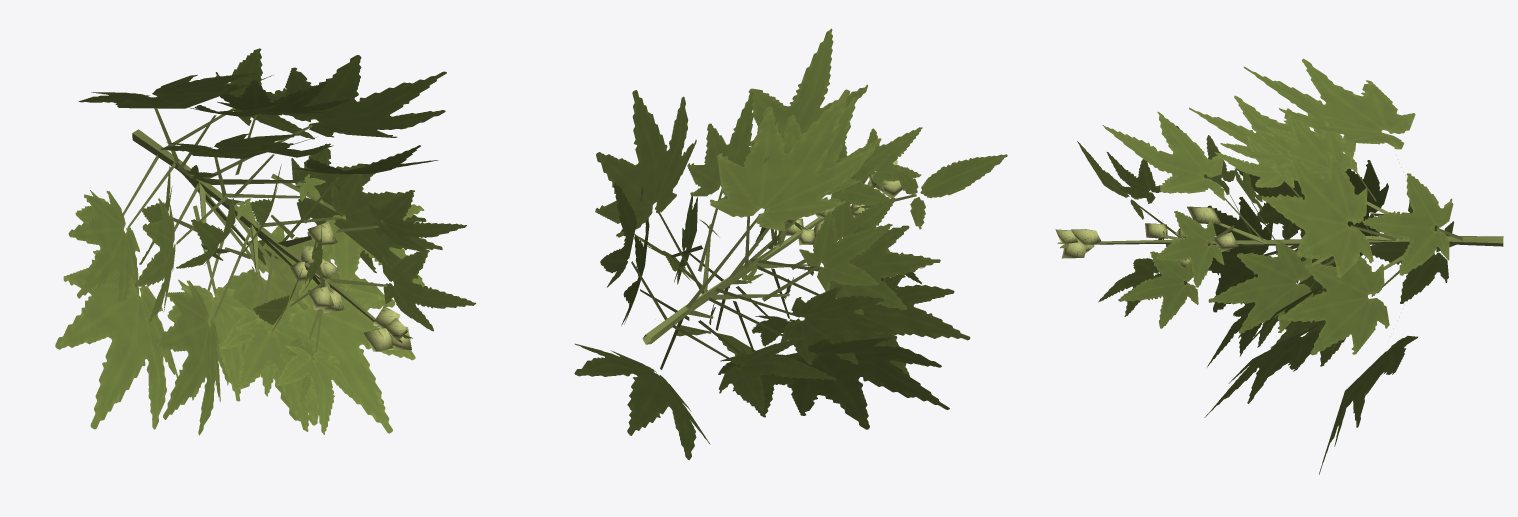
File: p_male_tree_preflower_c1_cards.obj
3 renders of one model, left to right at view 1: azimuth 30°, elevation 25°; view 2: azimuth 150°, elevation 25°; view 3: azimuth 270°, elevation 25°, orthographic. The views are drawn at different scales.
Bounding box in the file's own units: 1.31 × 1.25 × 1.28.
Materials: 1 (1 with a texture image).
